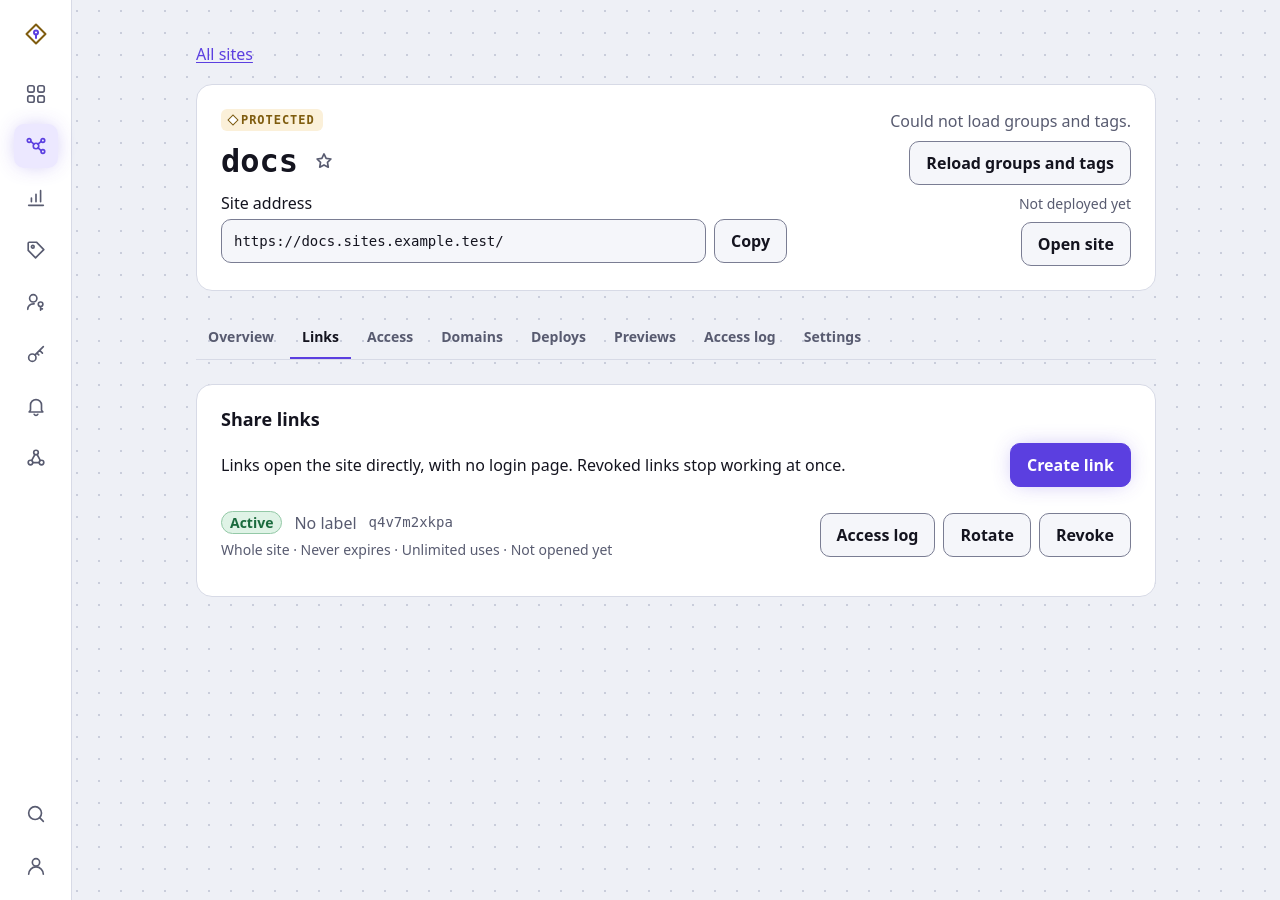
Test case: share links on the site page › keeps the revoke dialog open with the reason when it fails
What coordinates should you click on to do the following:
click the button with aria-label "Revoke link q4v7m2xkpa"
I would click on:
 (1085, 535)
Its box is [1039,513,1131,557].
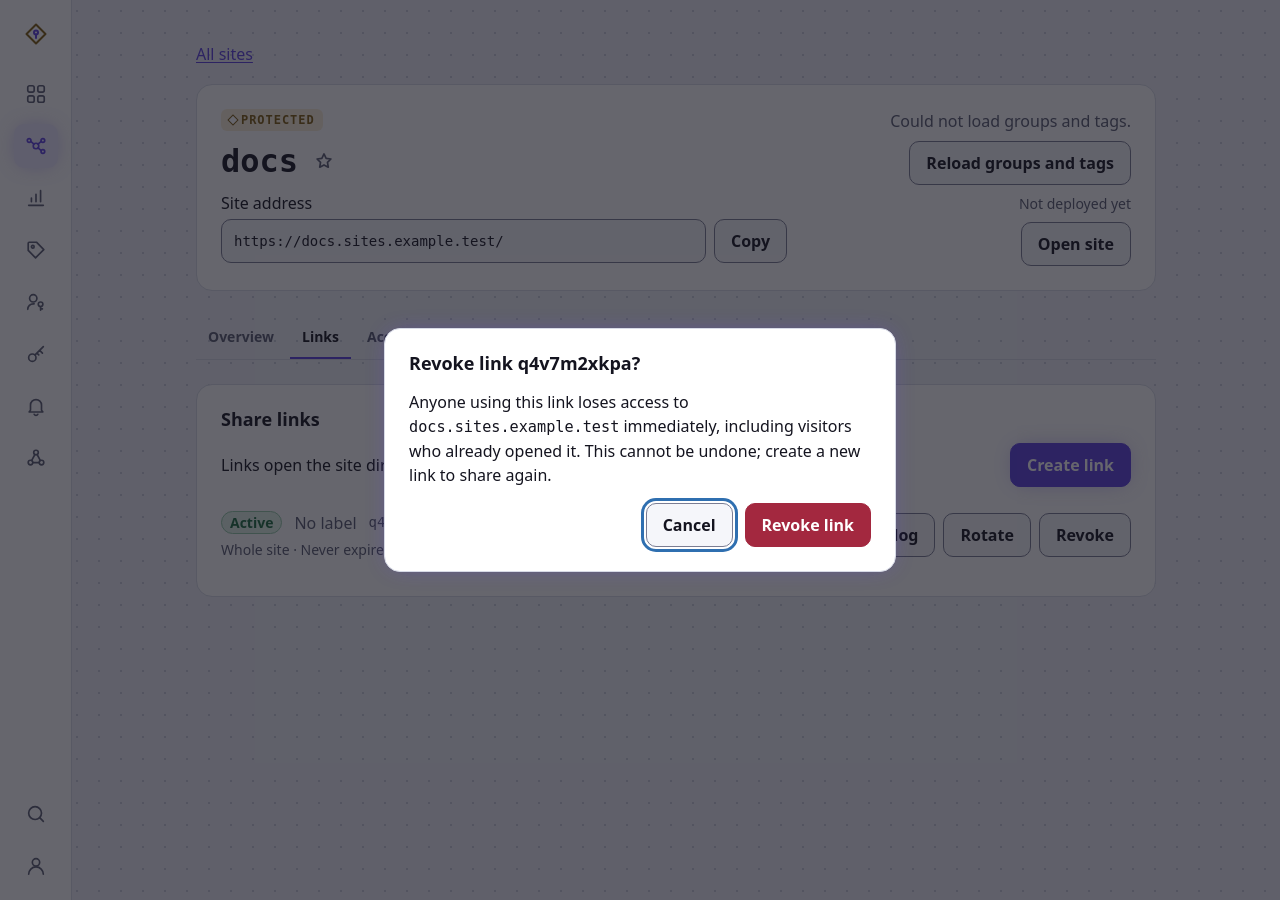
What coordinates should you click on to do the following:
click the button "Revoke link"
I would click on:
 (808, 525)
Its box is [745,503,871,547].
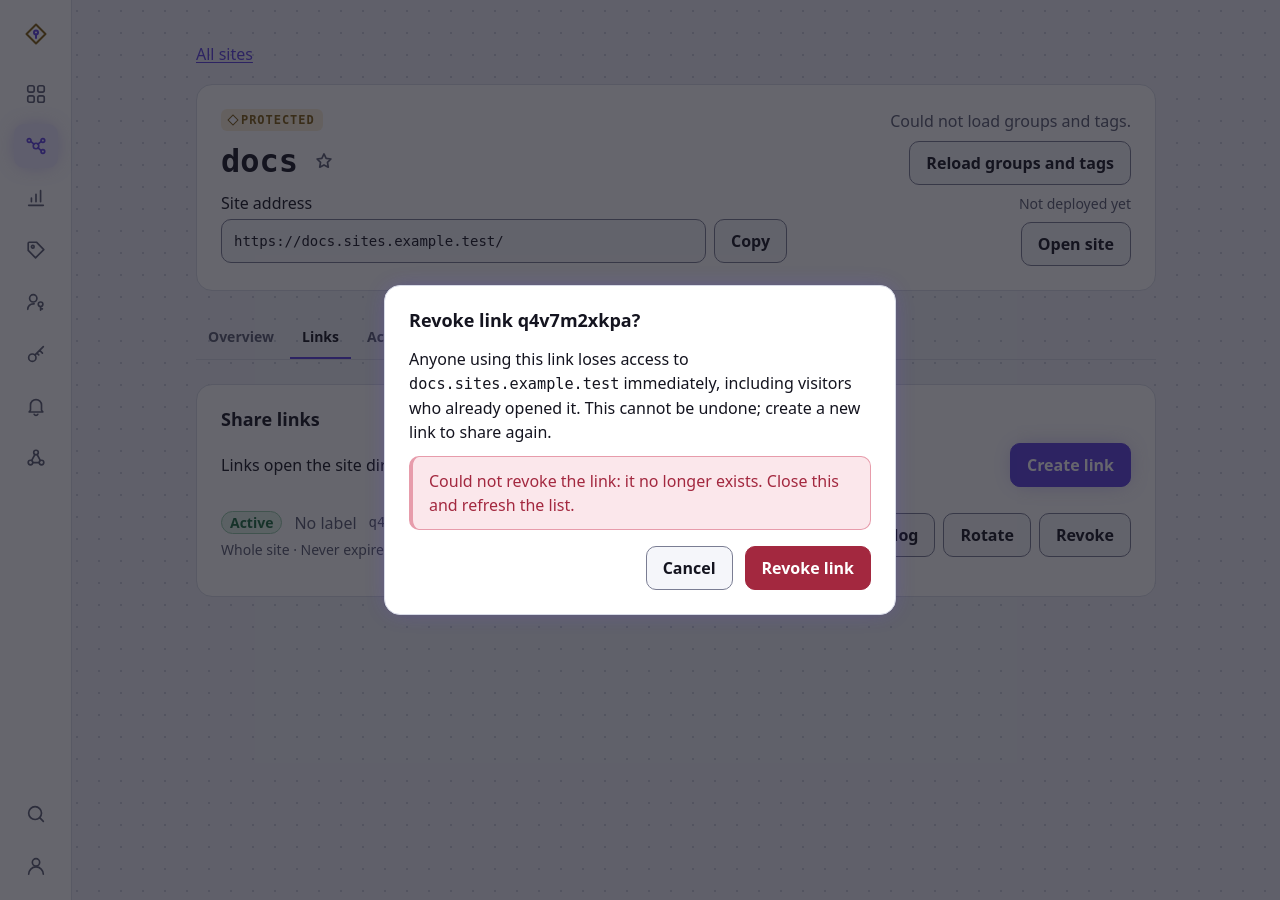
expect the message is shown: met, box [409,456,871,530]
expect the dialog "Revoke link q4v7m2xkpa?" shows "it no longer exists": met, box [429,470,839,516]
